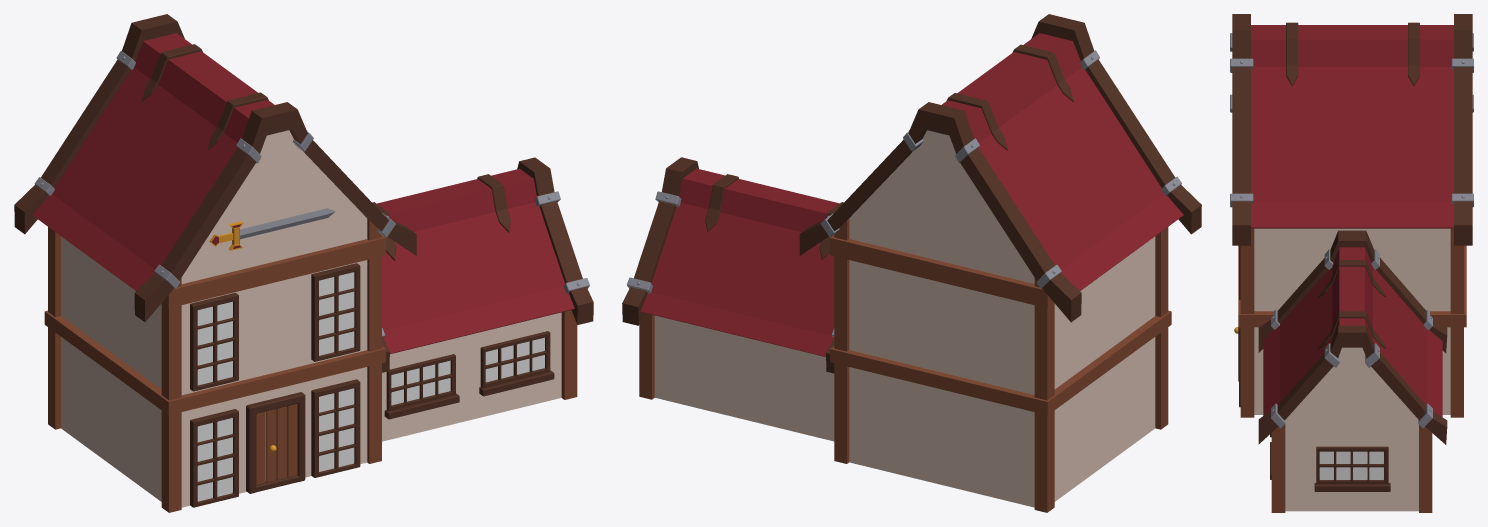
Rendered from Armory_Upgrade_1.fbx.
3 views of the same model, side by side, from view 1: azimuth 30°, elevation 25°; view 2: azimuth 150°, elevation 25°; view 3: azimuth 270°, elevation 25° (orthographic). The views are drawn at different scales.
Visible parts, largest first — view 1: Sword; view 2: Sword; view 3: Sword.
Part boxes in pixels (box(x1,y1,x2,y2)): Sword: box(14, 14, 593, 512); Sword: box(622, 14, 1201, 512); Sword: box(1230, 14, 1473, 512).
Size of the model in its own units: 990 by 764 by 485.
